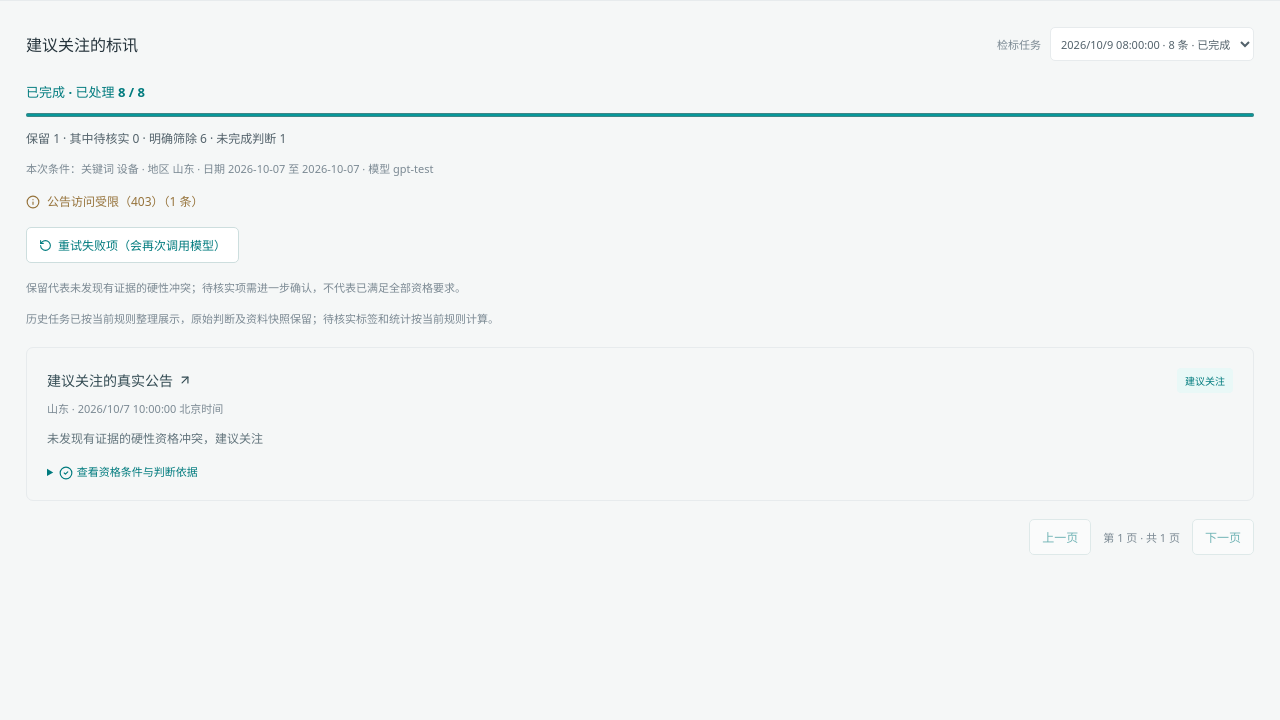
Test: shows identity-only history as retained without pending UI and preserves unrelated review issues
Check: the link "建议关注的真实公告" is shown, box x1=47 y1=368 x2=192 y2=393
Check: the message shows "其中待核实 0", box x1=26 y1=82 x2=1254 y2=147
Step 1. Click the heading "查看资格条件与判断依据" → (128, 472), box x1=59 y1=464 x2=198 y2=480
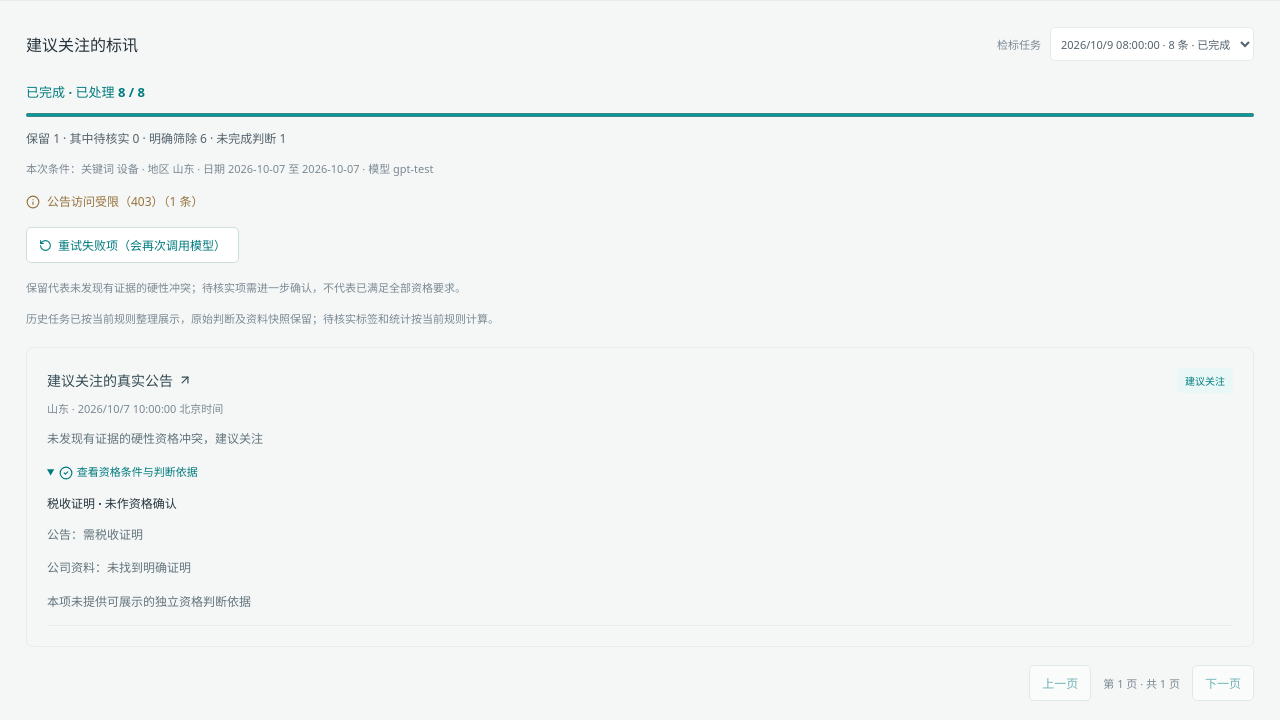
Check: the text "税收证明 · 未作资格确认" is shown, box x1=47 y1=495 x2=177 y2=512
